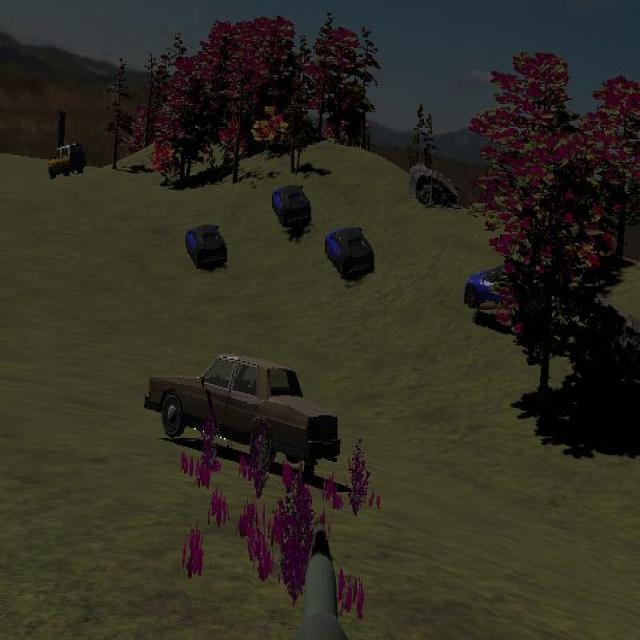car: (143, 352, 342, 476), (325, 225, 375, 280), (185, 220, 228, 270), (272, 183, 312, 229), (48, 142, 86, 180), (48, 143, 86, 180)
